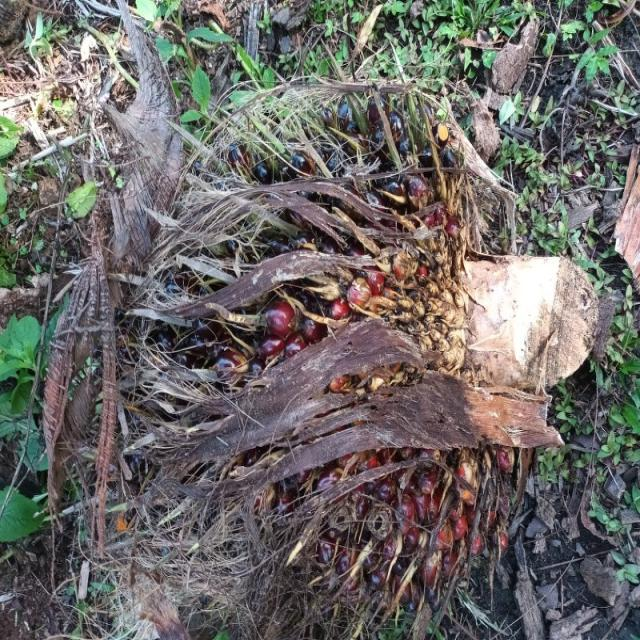fraksi 1: (21, 98, 426, 640)
